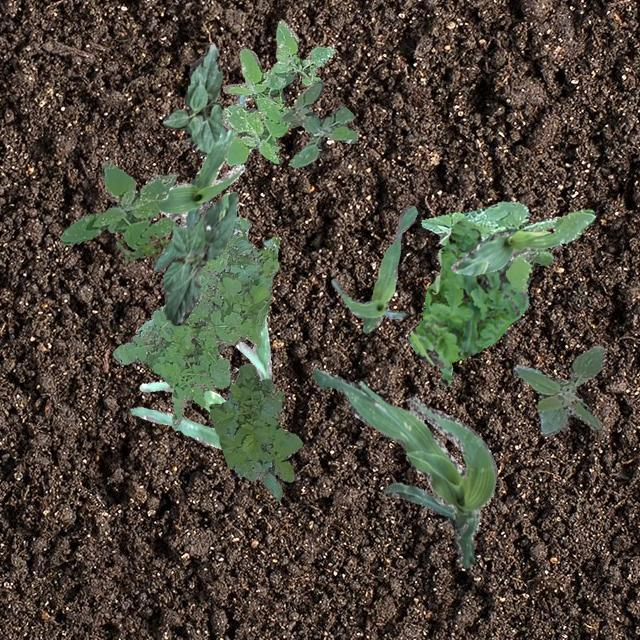crop: (312, 368, 496, 568), (130, 316, 270, 448), (152, 92, 246, 270), (329, 205, 416, 332), (162, 190, 238, 324), (162, 41, 222, 156), (450, 226, 560, 274)
weed: (112, 216, 278, 428), (407, 218, 528, 386), (220, 19, 334, 164), (420, 200, 594, 292), (208, 362, 302, 499), (60, 160, 176, 248), (512, 344, 606, 436), (280, 78, 356, 166), (116, 230, 170, 262), (248, 108, 300, 126)
